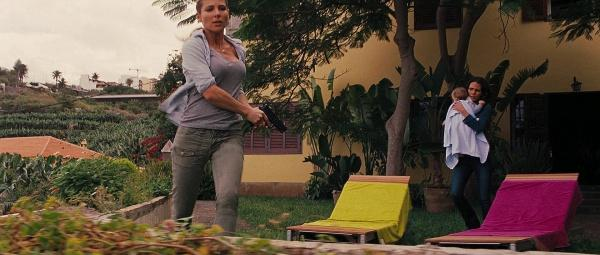Gun: (260, 107, 289, 134)
